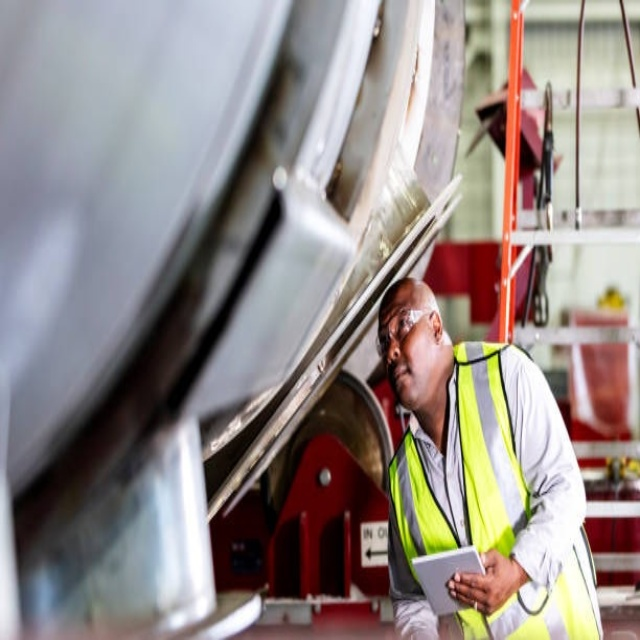Gafas: (375, 307, 435, 361)
Sin_guantes: (448, 547, 518, 619)
Sin_mascara: (387, 362, 420, 404)
